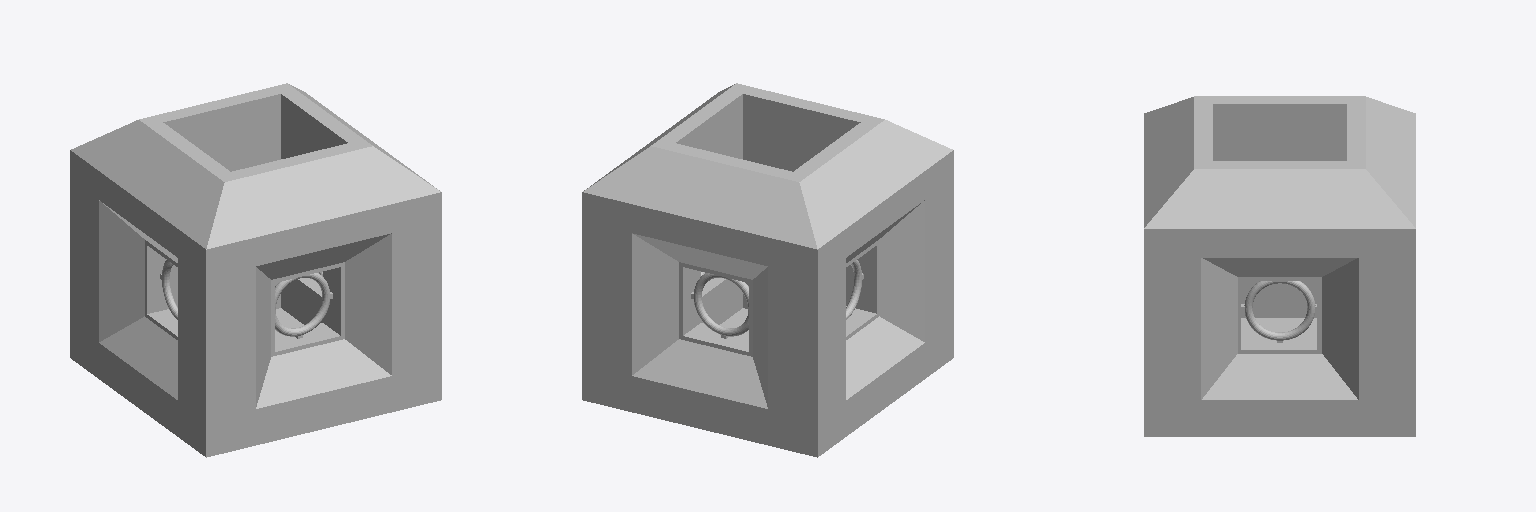
File: timemachine.obj
3 renders of one model, left to right at view 1: azimuth 30°, elevation 25°; view 2: azimuth 150°, elevation 25°; view 3: azimuth 270°, elevation 25°, orthographic.
Parts seen in each view (by area): view 1: Соединить_объекты.1; view 2: Соединить_объекты.1; view 3: Соединить_объекты.1.
Boxes of the visible parts, x1,y1,x2,y2 form: Соединить_объекты.1: [70, 83, 441, 457]; Соединить_объекты.1: [582, 83, 953, 457]; Соединить_объекты.1: [1144, 96, 1415, 436].
Bounding box in the file's own units: 1 × 0.9997 × 1.